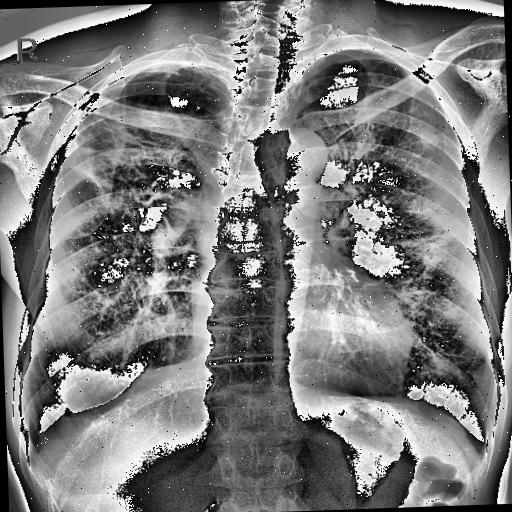10- Pleural effusion: (18, 428, 52, 470)
11- Pleural thickening: (19, 411, 72, 463), (18, 428, 52, 470), (16, 422, 44, 456), (402, 386, 430, 414), (50, 400, 82, 422), (145, 60, 198, 70), (140, 362, 154, 374)
13- Pulmonary fibrosis: (62, 115, 178, 242), (57, 111, 189, 220), (62, 110, 182, 216), (391, 234, 447, 308), (123, 63, 223, 101), (157, 62, 224, 106), (163, 64, 223, 104)
5- ILD: (382, 200, 464, 316)
7- Lung Opacity: (386, 226, 465, 308)
8- Nodule-Mass: (294, 182, 350, 218), (419, 130, 440, 150)
